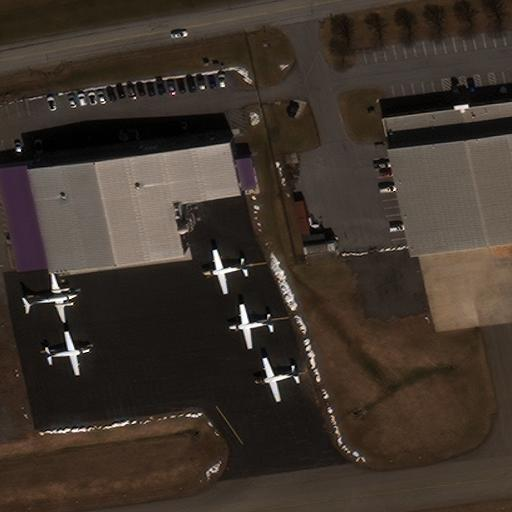Medium Civil Transport: (22, 272, 77, 323), (228, 302, 276, 349), (42, 330, 90, 375), (201, 249, 249, 294), (254, 359, 300, 403)
